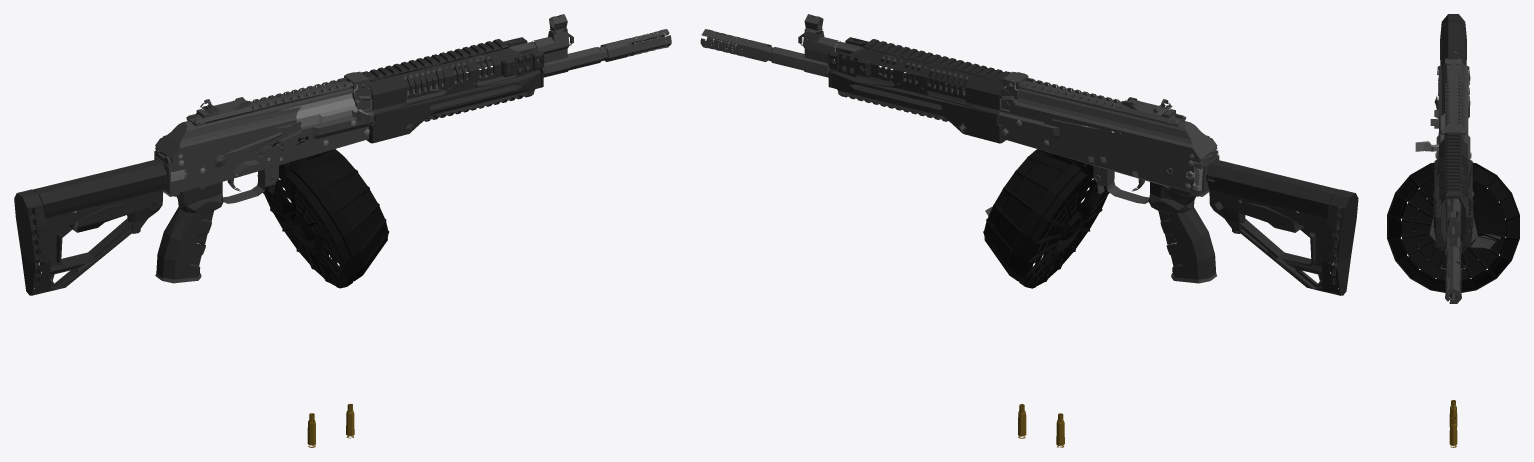
Rendered from low-poly-rpk-16-7e703e.glb.
3 views of the same model, side by side, from view 1: azimuth 30°, elevation 25°; view 2: azimuth 150°, elevation 25°; view 3: azimuth 270°, elevation 25° (orthographic). The views are drawn at different scales.
Visible parts, largest first — view 1: PropMesh; view 2: PropMesh; view 3: PropMesh.
Part boxes in pixels (bbox=[...]): PropMesh: bbox=[14, 14, 671, 447]; PropMesh: bbox=[700, 14, 1358, 447]; PropMesh: bbox=[1387, 14, 1519, 447].
Bounding box in the file's own units: 0.9 × 0.4948 × 0.1791.
